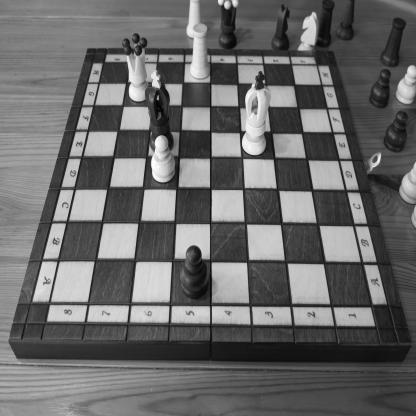black-bishop: (335, 0, 356, 42)
black-king: (145, 69, 174, 152)
black-knight: (271, 3, 290, 51)
black-pawn: (180, 244, 210, 300), (383, 110, 409, 153), (368, 68, 392, 110)
black-queen: (217, 0, 239, 49)
black-rook: (380, 17, 407, 68), (316, 0, 336, 49)
white-king: (242, 70, 272, 156)
white-knight: (297, 11, 319, 52)
white-pawn: (150, 135, 176, 184), (395, 64, 415, 107), (397, 162, 416, 205)
white-queen: (122, 33, 148, 103)
white-rook: (189, 22, 211, 80), (186, 0, 203, 39)
